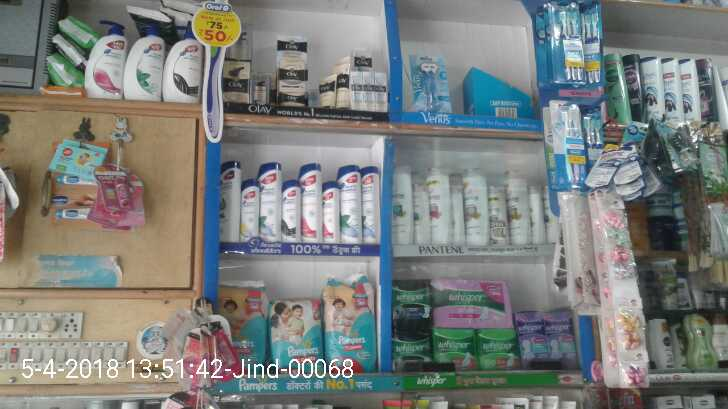venus: (413, 55, 449, 113)
